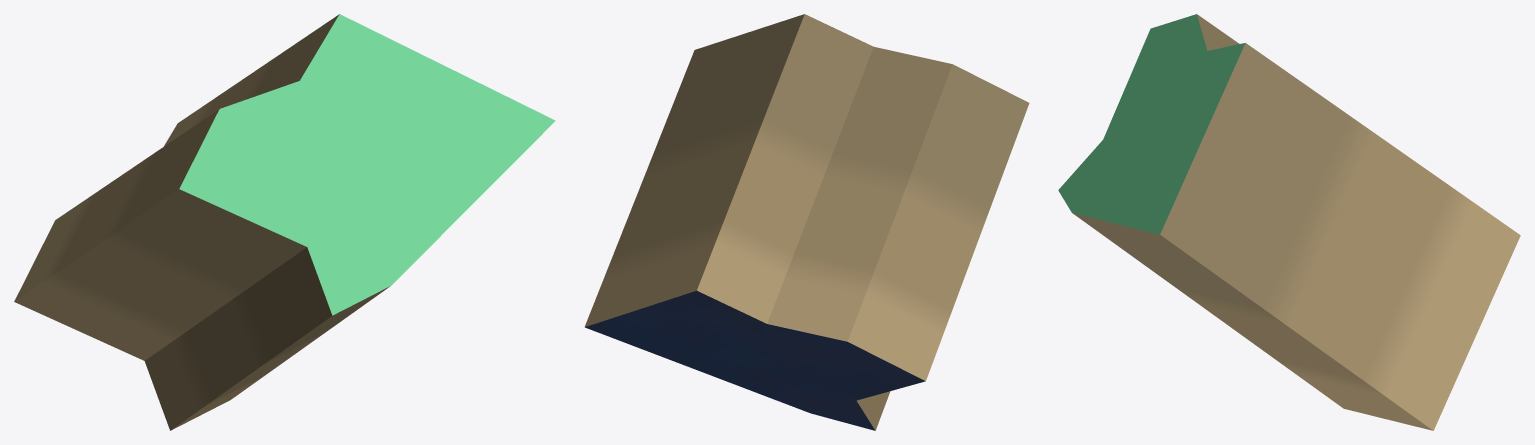
Rendered from 0683_Belgium.glb.
3 views of the same model, side by side, from view 1: azimuth 30°, elevation 25°; view 2: azimuth 150°, elevation 25°; view 3: azimuth 270°, elevation 25° (orthographic). The views are drawn at different scales.
Parts seen in each view (by area): view 1: part_0; view 2: part_0; view 3: part_0.
Part boxes in pixels (bbox=[...]): part_0: bbox=[14, 14, 555, 430]; part_0: bbox=[584, 14, 1029, 430]; part_0: bbox=[1058, 14, 1520, 430].
Size of the model in its own units: 0.2531 by 0.2502 by 0.2611.
1 material, 1 textured.
